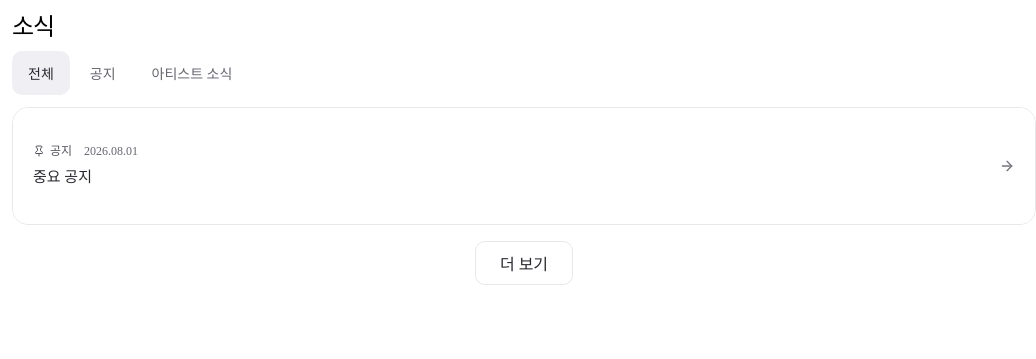
creator news › paginates notices for a creator without CHZZK, with no CHZZK request or filter
Expected: the text "중요 공지" is shown, [33, 169, 92, 185]
Expected: the button "아티스트 소식" is shown, [136, 51, 248, 95]
What coordinates should you click on to do the following:
click the button "더 보기"
I would click on:
 (524, 263)
Its box is [475, 241, 573, 285].
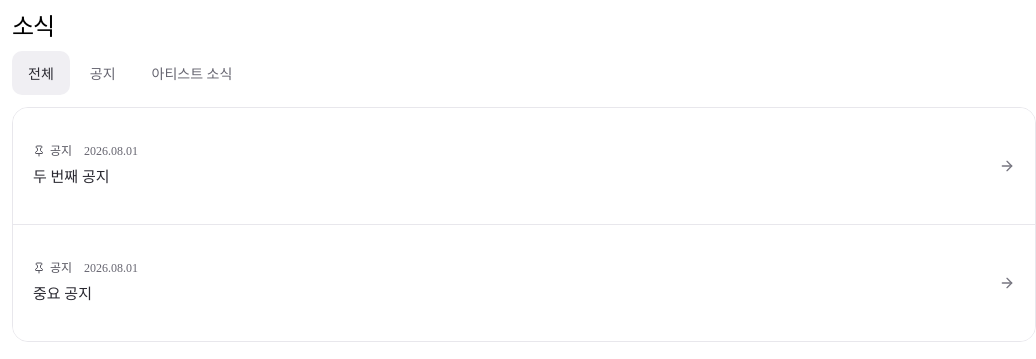
Now the text "두 번째 공지" is shown, box [33, 169, 110, 185]
